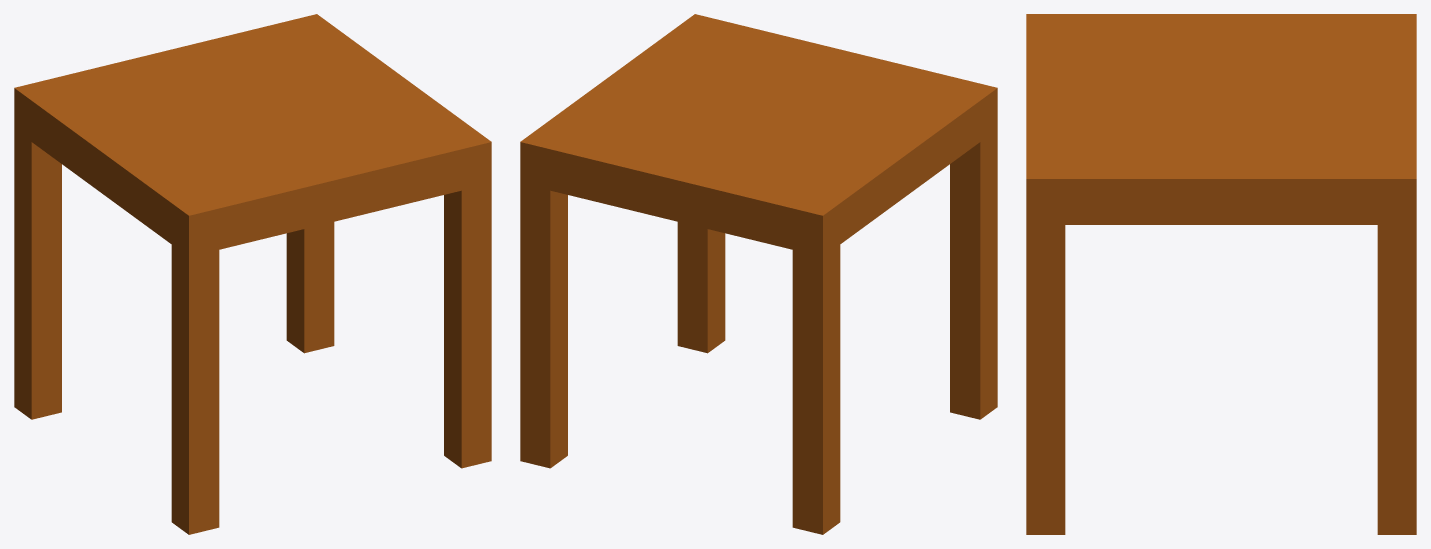
Rendered from table_1x1.glb.
The picture shows the model from 3 angles, left to right: view 1: azimuth 30°, elevation 25°; view 2: azimuth 150°, elevation 25°; view 3: azimuth 270°, elevation 25°; orthographic projection. The views are drawn at different scales.
Parts seen in each view (by area): view 1: table_1x1; view 2: table_1x1; view 3: table_1x1.
Part boxes in pixels (x1,y1,x2,y2): table_1x1: (14,14,491,534); table_1x1: (520,14,997,534); table_1x1: (1026,14,1416,534).
Size of the model in its own units: 0.7861 by 0.7918 by 0.7861.
